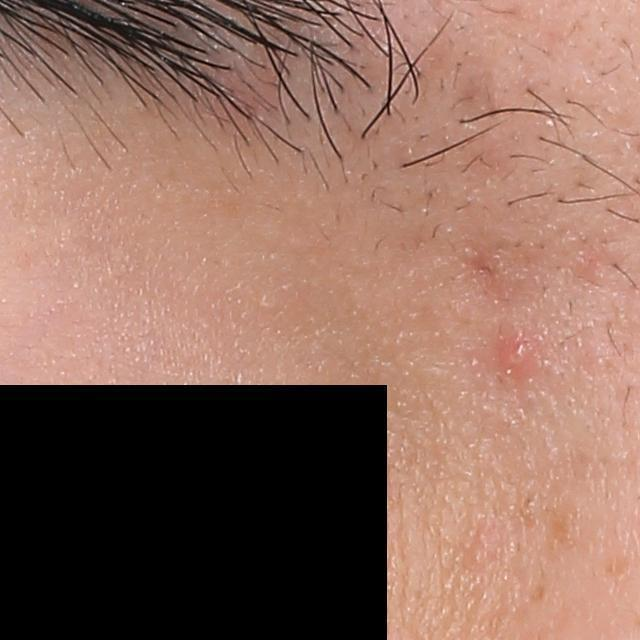melasma: (527, 582, 548, 603)
